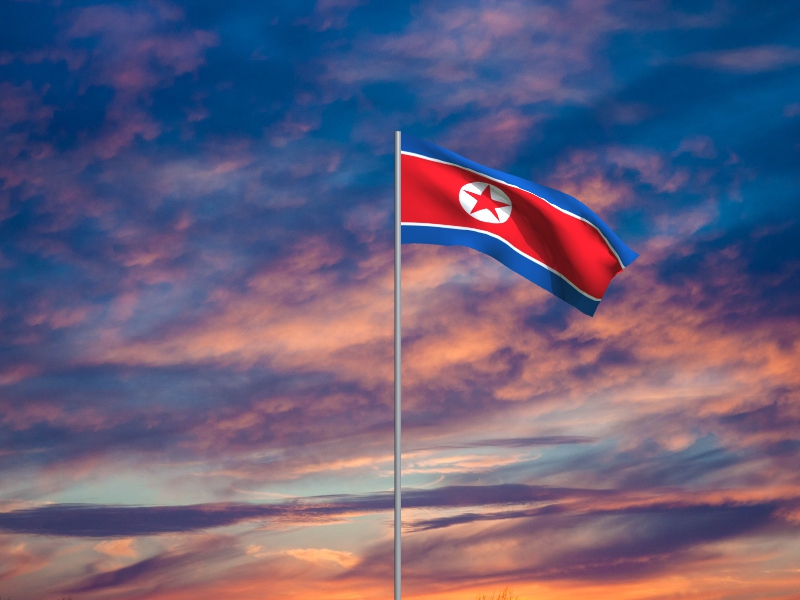kp: (402, 132, 641, 319)
